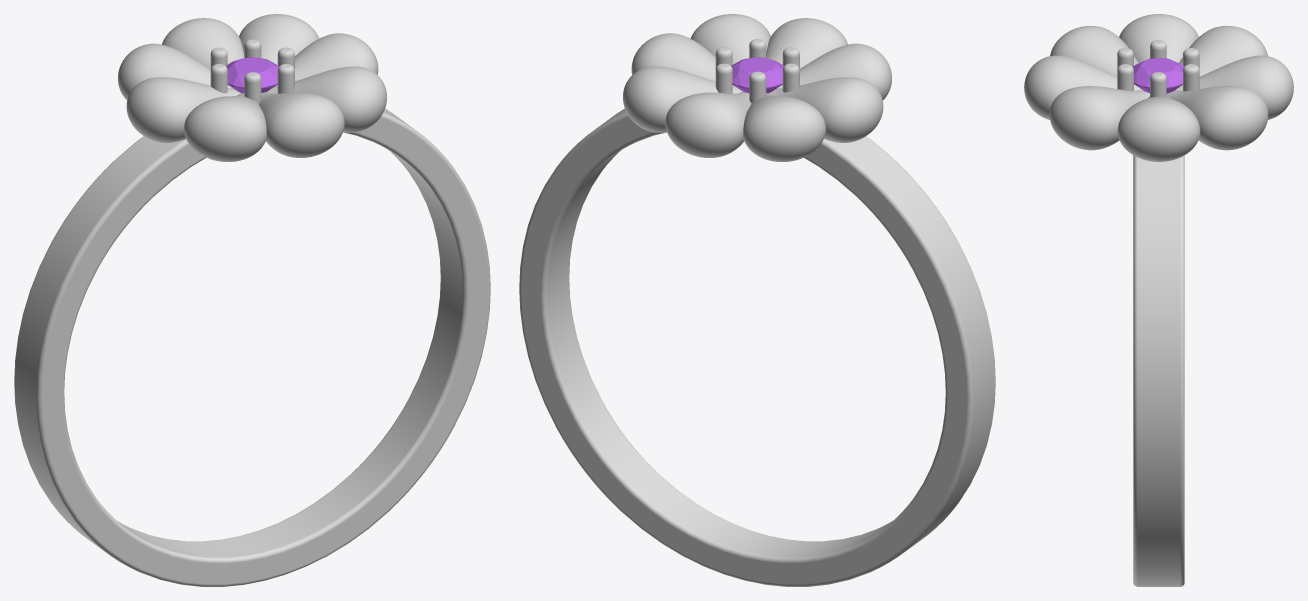
3 views of the same model, side by side, from view 1: azimuth 30°, elevation 25°; view 2: azimuth 150°, elevation 25°; view 3: azimuth 270°, elevation 25° (orthographic).
Visible parts, largest first — view 1: Ref.44_ piedra1 esmer _ct0.80_peso 1.9gr,oroB _18kl_7usa.3dm; view 2: Ref.44_ piedra1 esmer _ct0.80_peso 1.9gr,oroB _18kl_7usa.3dm; view 3: Ref.44_ piedra1 esmer _ct0.80_peso 1.9gr,oroB _18kl_7usa.3dm.
Boxes of the visible parts, x1,y1,x2,y2 form: Ref.44_ piedra1 esmer _ct0.80_peso 1.9gr,oroB _18kl_7usa.3dm: [14, 14, 490, 586]; Ref.44_ piedra1 esmer _ct0.80_peso 1.9gr,oroB _18kl_7usa.3dm: [519, 14, 995, 586]; Ref.44_ piedra1 esmer _ct0.80_peso 1.9gr,oroB _18kl_7usa.3dm: [1024, 14, 1293, 586].
Bounding box in the file's own units: 2.55 × 2.77 × 1.34.
